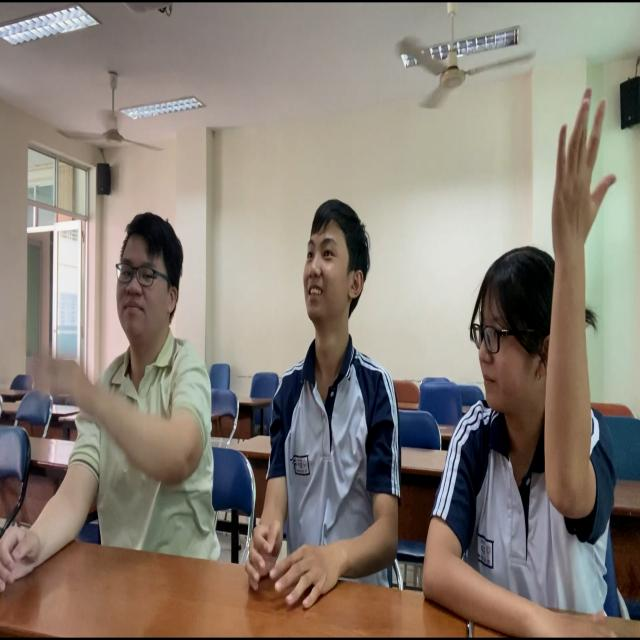raise_hand: (410, 53, 640, 640)
